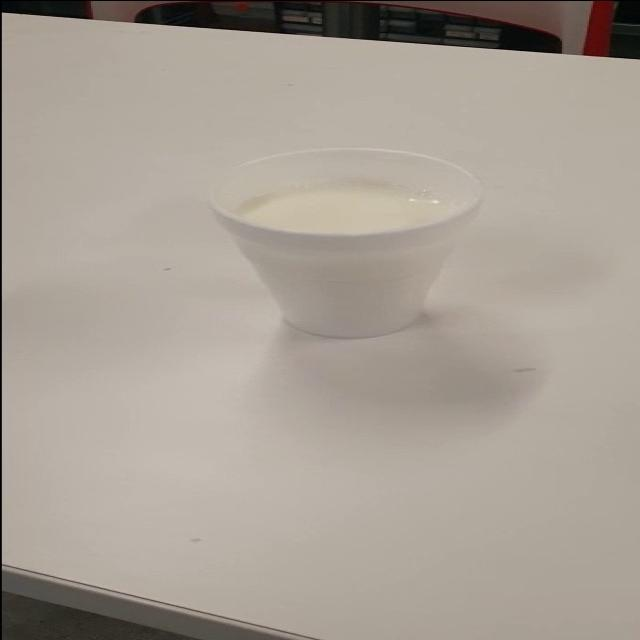Milk: (185, 136, 527, 361)
